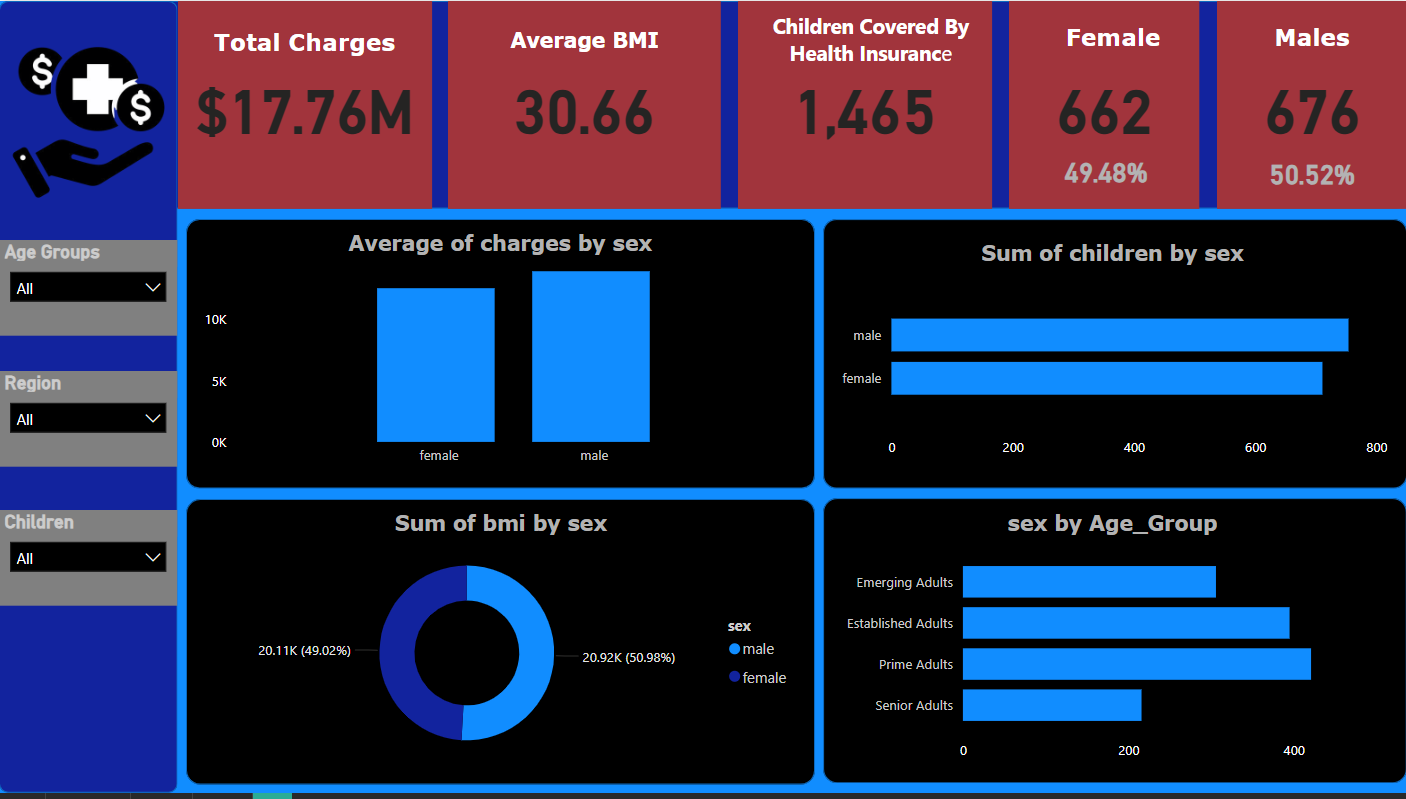

The dashboard page shown, as its layout file describes it:
{"tool":"powerbi","page":{"name":"Sex","canvas":[1280,720],"ordinal":3},"visuals":[{"type":"shape","box":[749.2,451.9,530.8,259.4],"z":0,"group":"g1"},{"type":"shape","box":[0,0,1280,188.7],"z":1000,"group":"g1"},{"type":"shape","box":[0,0,162.4,719.8],"z":2000,"group":"g1"},{"type":"card","fields":{"Values":["Measures (2).Total Charges"]},"box":[162.4,0,230.5,188.7],"z":3000,"group":"g1"},{"type":"textbox","box":[162.4,19.5,230.5,43.8],"z":4000,"group":"g1"},{"type":"card","fields":{"Values":["Measures (2).Females"]},"box":[918.2,0,173.1,188.7],"z":5000,"group":"g1"},{"type":"textbox","box":[926,14.6,173.1,48.6],"z":6000,"group":"g1"},{"type":"card","fields":{"Values":["Measures (2).males"]},"box":[1106.9,0,173.1,188.7],"z":7000,"group":"g1"},{"type":"textbox","box":[1106.9,14.6,173.1,48.6],"z":8000,"group":"g1"},{"type":"card","fields":{"Values":["Measures (2).children by insurance"]},"box":[672.1,0,230.5,188.7],"z":9000,"group":"g1"},{"type":"textbox","box":[677,4.9,230.5,72.9],"z":10000,"group":"g1"},{"type":"card","fields":{"Values":["Measures (2).Average BMI"]},"box":[408.5,0,248,188.7],"z":11000,"group":"g1"},{"type":"textbox","box":[408.5,19.5,248,48.6],"z":12000,"group":"g1"},{"type":"card","fields":{"Values":["Measures (2).%Female"]},"box":[923,128.4,167.3,53.5],"z":13000,"group":"g1"},{"type":"card","fields":{"Values":["Measures (2).%male"]},"box":[1109.8,130.3,167.3,53.5],"z":14000,"group":"g1"},{"type":"shape","box":[170.2,198.4,571.9,245.1],"z":15000,"group":"g1"},{"type":"slicer","title":"Age Groups","fields":{"Values":["insurance.Age_Group"]},"box":[0,216.9,162.4,86.6],"z":16000,"group":"g1"},{"type":"slicer","title":"Region","fields":{"Values":["insurance.region"]},"box":[0,336.5,162.4,86.6],"z":17000,"group":"g1"},{"type":"slicer","title":"Children","fields":{"Values":["insurance.children"]},"box":[0,462.3,162.5,87.1],"z":19000,"group":"g1"},{"type":"shape","box":[748.9,198.4,531.1,245.1],"z":20000,"group":"g1"},{"type":"shape","box":[170.2,452.3,571.9,259.7],"z":21000,"group":"g1"},{"type":"lineStackedColumnComboChart","fields":{"Category":["insurance.sex"],"Y":["Avg(insurance.charges)"]},"box":[182.2,208.3,547.6,222.6],"z":21001,"group":"g1"},{"type":"donutChart","fields":{"Category":["insurance.sex"],"Y":["Sum(insurance.bmi)"]},"box":[182.4,462.3,547.1,237],"z":21002,"group":"g1"},{"type":"clusteredBarChart","fields":{"Category":["insurance.sex"],"Y":["Sum(insurance.children)"]},"box":[757.3,217.2,509.9,206.8],"z":21003,"group":"g1"},{"type":"clusteredBarChart","title":"sex by Age_Group","fields":{"Category":["insurance.Age_Group"],"Y":["CountNonNull(insurance.sex)"]},"box":[757.3,462.3,509.9,237],"z":21004,"group":"g1"},{"type":"image","box":[0,31.8,162.7,157.3],"z":21005,"group":"g1"},{"type":"group","id":"g1","title":"Group 1","box":[0,0,1280,719.8],"z":21006}]}

Visuals, with their boxes in screenshot pixels (x1, y1, x2, y2), scaled from the page's 1280x720 canvas onto the 1406x799 screenshot:
shape: 823:501:1405:789
shape: 0:0:1405:209
shape: 0:0:178:798
card - Measures (2).Total Charges: 178:0:432:209
textbox: 178:22:432:70
card - Measures (2).Females: 1009:0:1199:209
textbox: 1017:16:1207:70
card - Measures (2).males: 1216:0:1405:209
textbox: 1216:16:1405:70
card - Measures (2).children by insurance: 738:0:991:209
textbox: 744:5:997:86
card - Measures (2).Average BMI: 449:0:721:209
textbox: 449:22:721:76
card - Measures (2).%Female: 1014:142:1198:202
card - Measures (2).%male: 1219:145:1403:204
shape: 187:220:815:492
"Age Groups" slicer: 0:241:178:337
"Region" slicer: 0:373:178:470
"Children" slicer: 0:513:178:610
shape: 823:220:1405:492
shape: 187:502:815:790
lineStackedColumnComboChart - insurance.sex x Avg(insurance.charges): 200:231:802:478
donutChart - insurance.sex x Sum(insurance.bmi): 200:513:801:776
clusteredBarChart - insurance.sex x Sum(insurance.children): 832:241:1392:471
"sex by Age_Group" clusteredBarChart: 832:513:1392:776
image: 0:35:179:210
"Group 1" group: 0:0:1405:798
